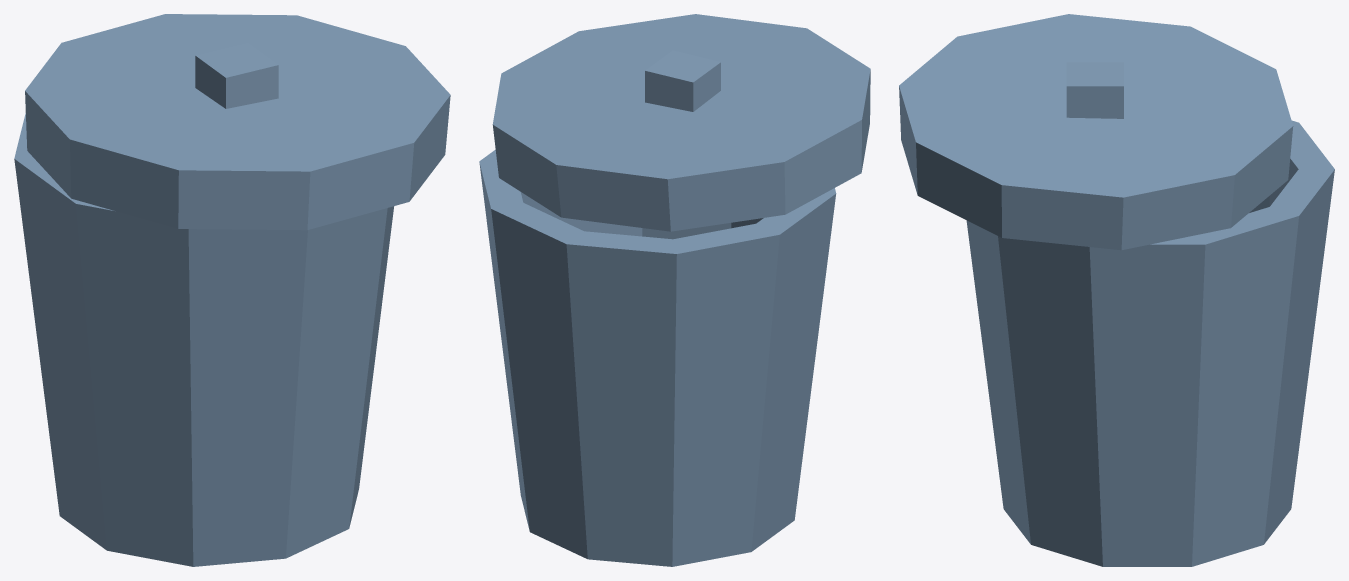
Rendered from trash_can.fbx.
The picture shows the model from 3 angles, left to right: view 1: azimuth 30°, elevation 25°; view 2: azimuth 150°, elevation 25°; view 3: azimuth 270°, elevation 25°; orthographic projection. The views are drawn at different scales.
Visible parts, largest first — view 1: Trashcan; view 2: Trashcan; view 3: Trashcan.
Part boxes in pixels (bbox=[...]): Trashcan: bbox=[14, 14, 450, 566]; Trashcan: bbox=[479, 14, 870, 566]; Trashcan: bbox=[899, 14, 1334, 566].
Size of the model in its own units: 140 by 170 by 154.
